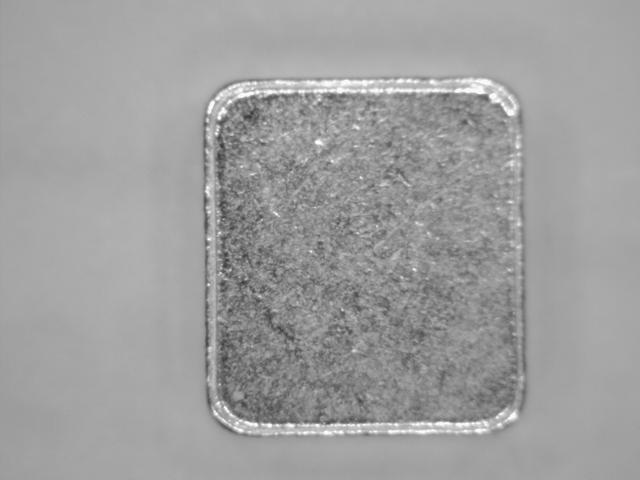nok: (191, 73, 538, 444)
